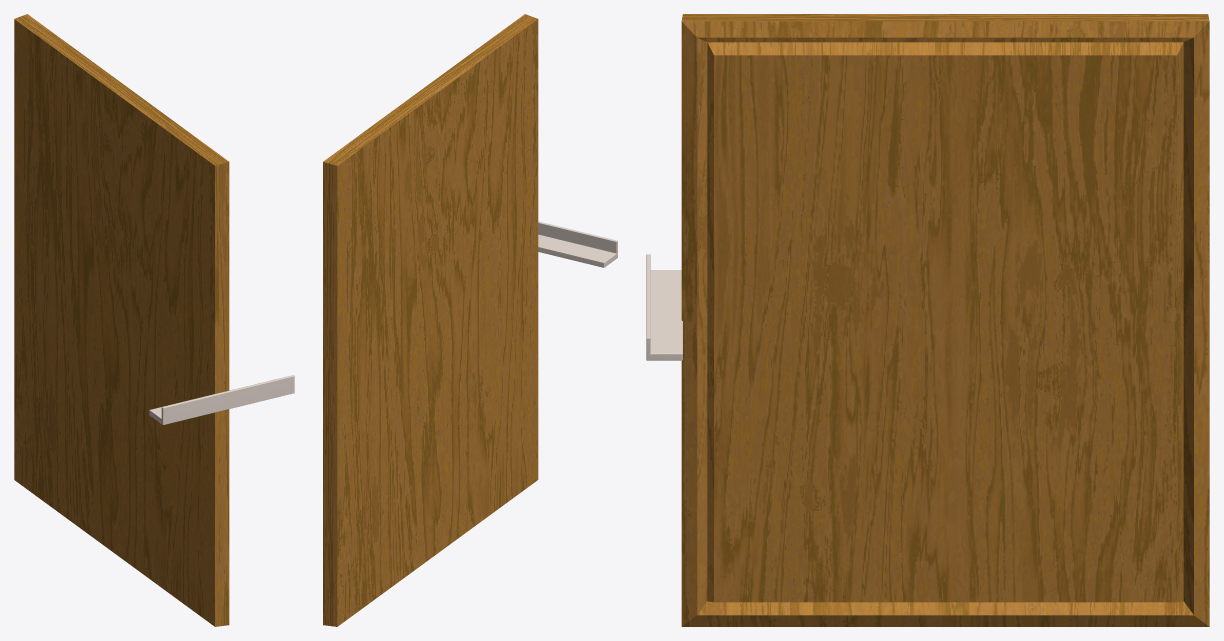
File: Cabinet_03bf161e.obj
3 views of the same model, side by side, from view 1: azimuth 30°, elevation 25°; view 2: azimuth 150°, elevation 25°; view 3: azimuth 270°, elevation 25° (orthographic). The views are drawn at different scales.
Parts seen in each view (by area): view 1: Mesh_01_50431c61, handle_3_178mm_01_e92b1ed0; view 2: Mesh_01_50431c61, handle_3_178mm_01_e92b1ed0; view 3: Mesh_01_50431c61, handle_3_178mm_01_e92b1ed0.
Boxes of the visible parts, left/top/right/bottom form: Mesh_01_50431c61: left=14, top=14, right=229, bottom=626; handle_3_178mm_01_e92b1ed0: left=149, top=375, right=294, bottom=424; Mesh_01_50431c61: left=323, top=14, right=538, bottom=626; handle_3_178mm_01_e92b1ed0: left=538, top=221, right=617, bottom=267; Mesh_01_50431c61: left=681, top=14, right=1209, bottom=626; handle_3_178mm_01_e92b1ed0: left=646, top=254, right=682, bottom=360.
Size of the model in its own units: 0.178 by 0.598 by 0.5038.
